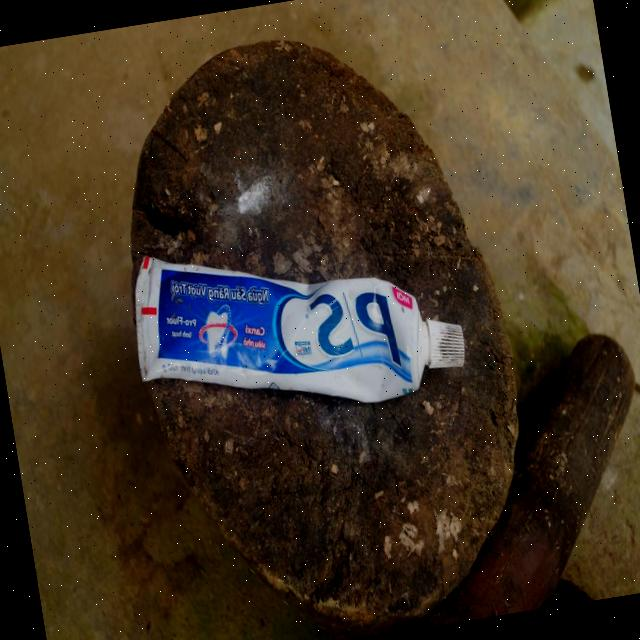Toothpaste: (114, 202, 468, 440)
